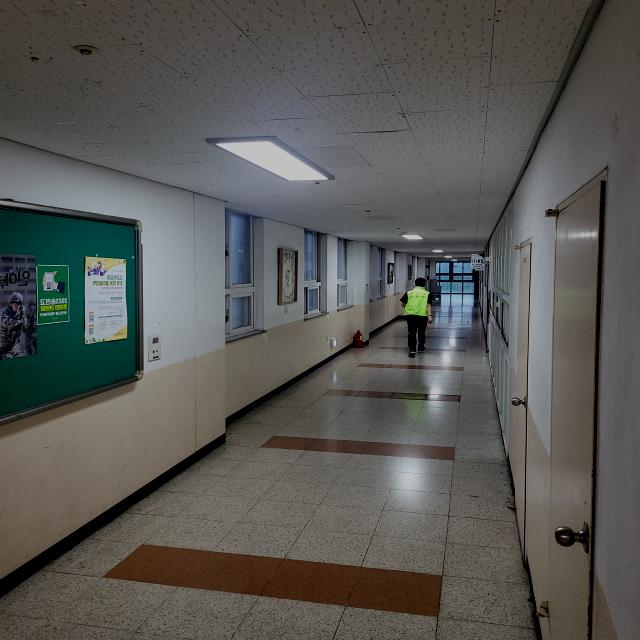weston_spy: (393, 278, 439, 326)
